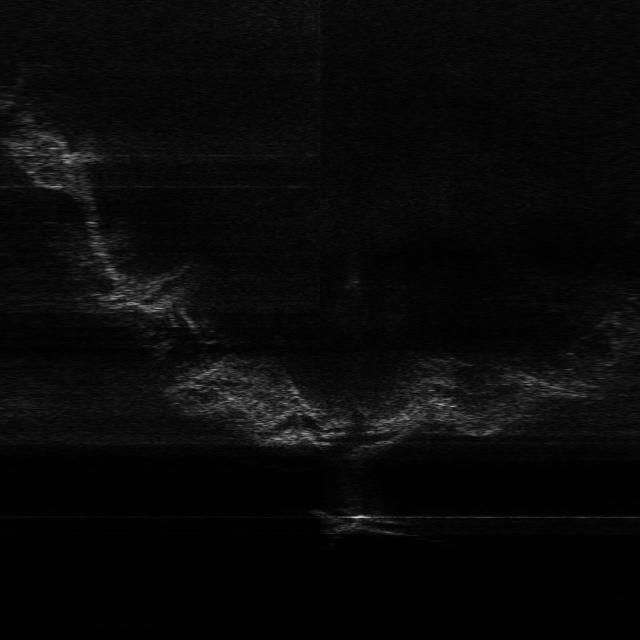plane: (309, 507, 417, 539)
